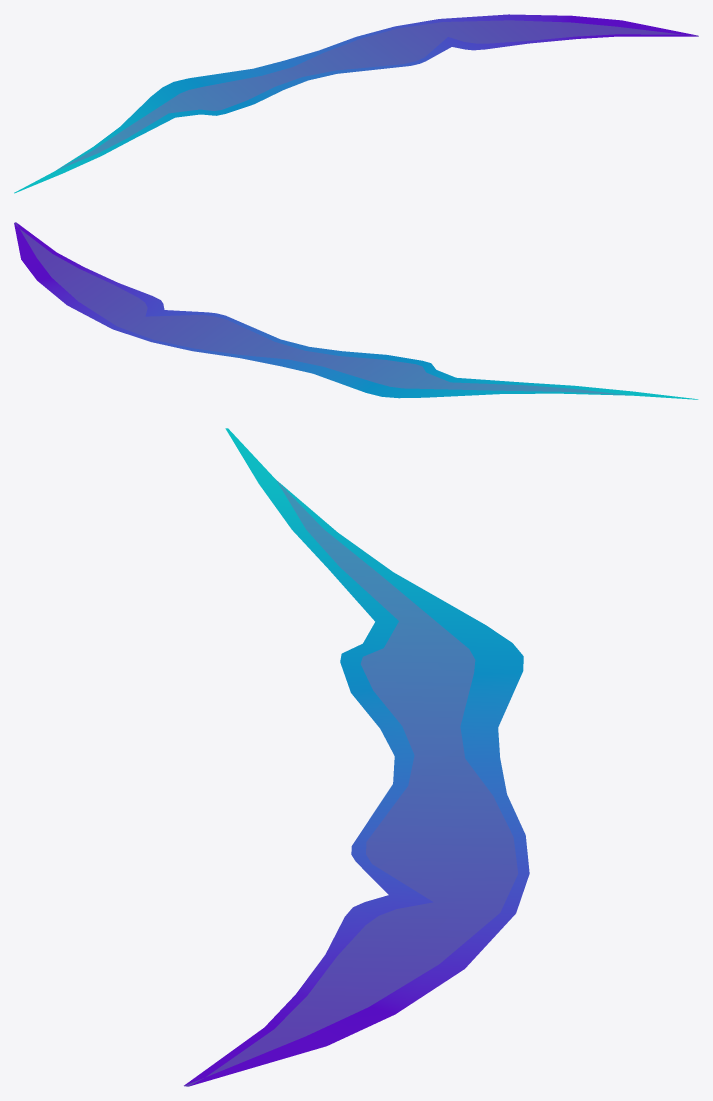
The model's file is SM_ Shining_line_04.fbx.
3 renders of one model, top to bottom at view 1: azimuth 30°, elevation 25°; view 2: azimuth 150°, elevation 25°; view 3: azimuth 270°, elevation 25°, orthographic. The views are drawn at different scales.
Visible parts, largest first — view 1: SM_ Shining_line_04; view 2: SM_ Shining_line_04; view 3: SM_ Shining_line_04.
Boxes of the visible parts, <box> form: SM_ Shining_line_04: <box>14,14,698,193</box>; SM_ Shining_line_04: <box>14,222,698,399</box>; SM_ Shining_line_04: <box>184,428,529,1086</box>.
Bounding box in the file's own units: 25.8 × 2.78e-07 × 5.74.
